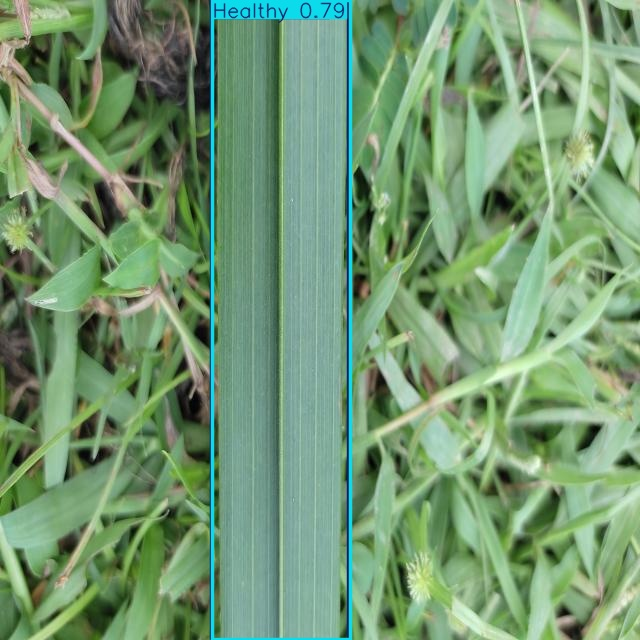Healthy: (213, 0, 351, 640)
nitrogen: (212, 0, 348, 640)
